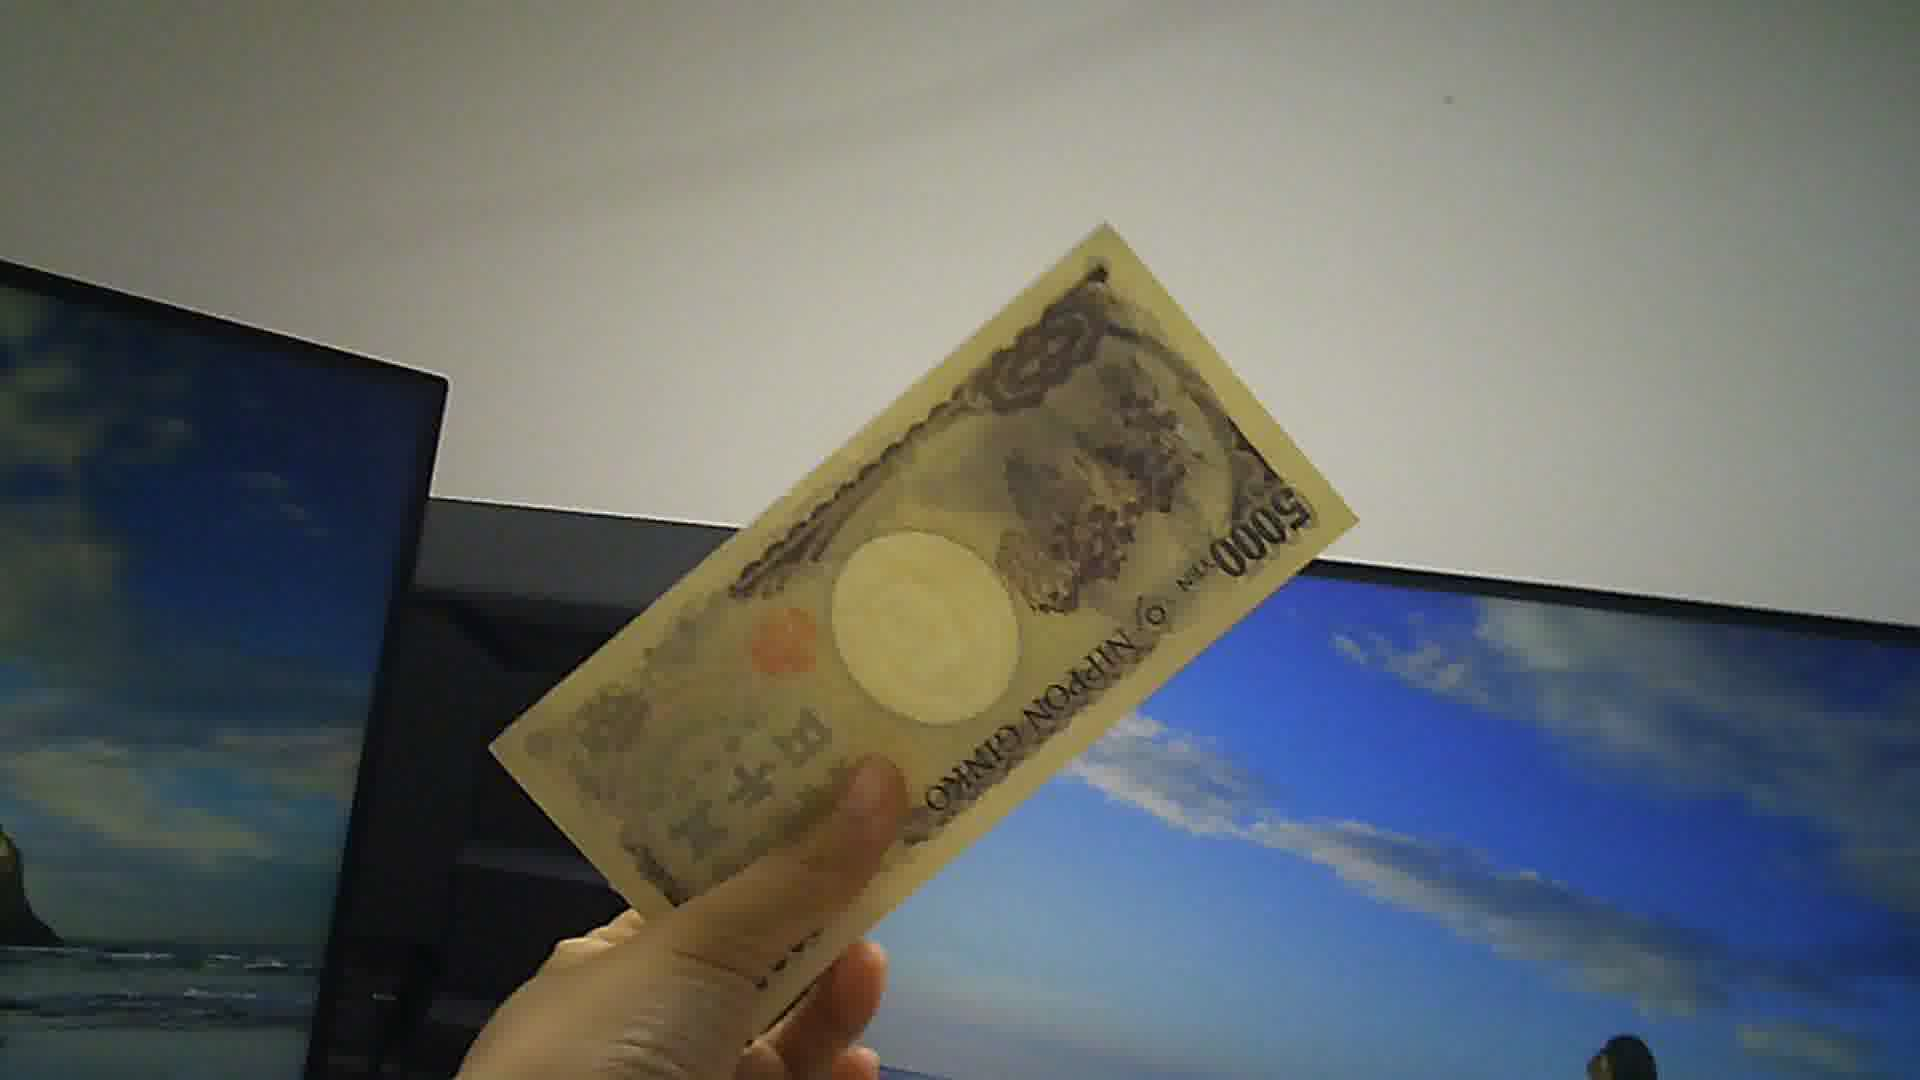5,000 Yen: (465, 214, 1375, 1015)
